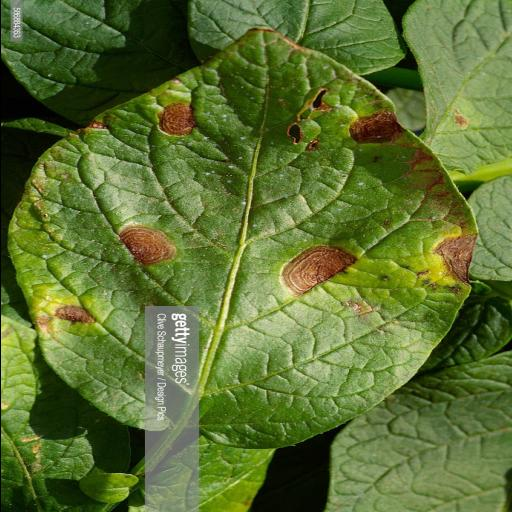disease_tomato: (10, 28, 478, 452)
